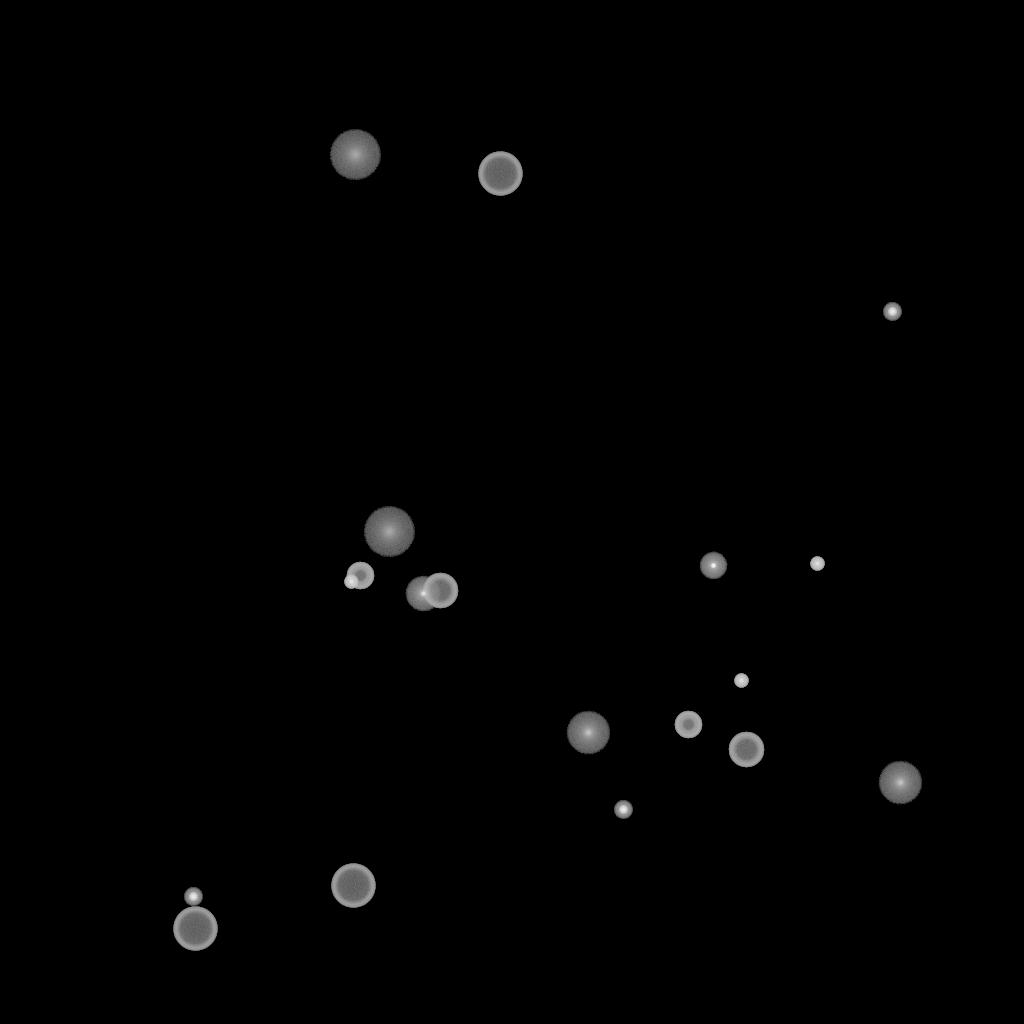depth:-10: (699, 552, 727, 580)
depth:-20: (614, 801, 632, 819), (184, 888, 202, 906), (883, 303, 901, 321)
depth:-30: (734, 674, 748, 688), (810, 557, 824, 571), (344, 575, 358, 589)
depth:-50: (674, 711, 702, 739), (346, 562, 374, 590)
depth:-60: (422, 573, 458, 609), (728, 732, 764, 768)
depth:-70: (331, 864, 375, 908), (173, 907, 217, 951), (478, 152, 522, 196)
depth:0: (405, 576, 441, 612)
depth:10: (566, 711, 610, 755), (878, 761, 922, 805)
depth:20: (329, 130, 381, 180), (363, 507, 415, 557)
